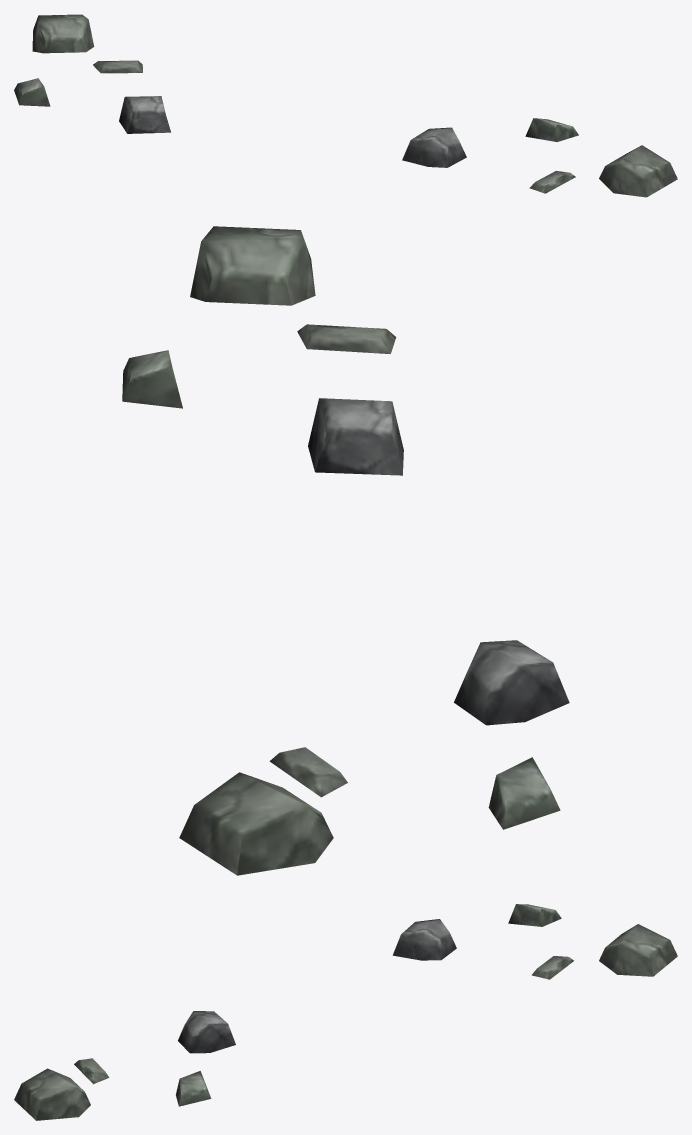
File: Area_12_22.fbx
3 renders of one model, top to bottom at view 1: azimuth 30°, elevation 25°; view 2: azimuth 150°, elevation 25°; view 3: azimuth 270°, elevation 25°, orthographic. The views are drawn at different scales.
Parts seen in each view (by area): view 1: Area_12_22; view 2: Area_12_22; view 3: Area_12_22.
Part boxes in pixels (left/top/right/bottom): Area_12_22: left=14, top=14, right=677, bottom=197; Area_12_22: left=122, top=226, right=569, bottom=875; Area_12_22: left=14, top=904, right=677, bottom=1120.
Bounding box in the file's own units: 707 × 44.04 × 952.
